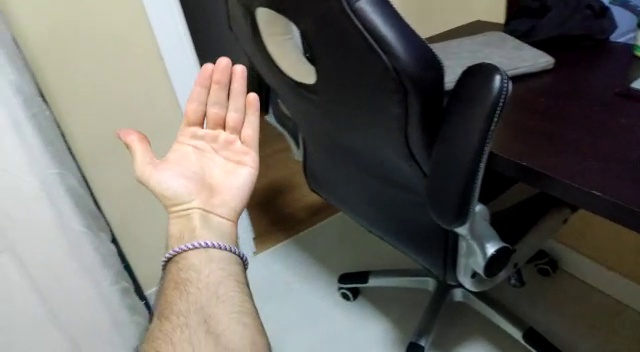Palm: (114, 46, 262, 227)
